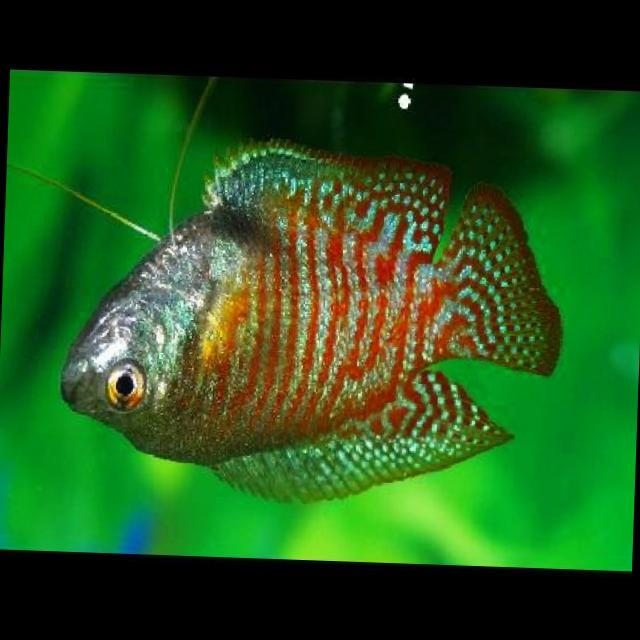Gourami: (53, 124, 572, 514)
